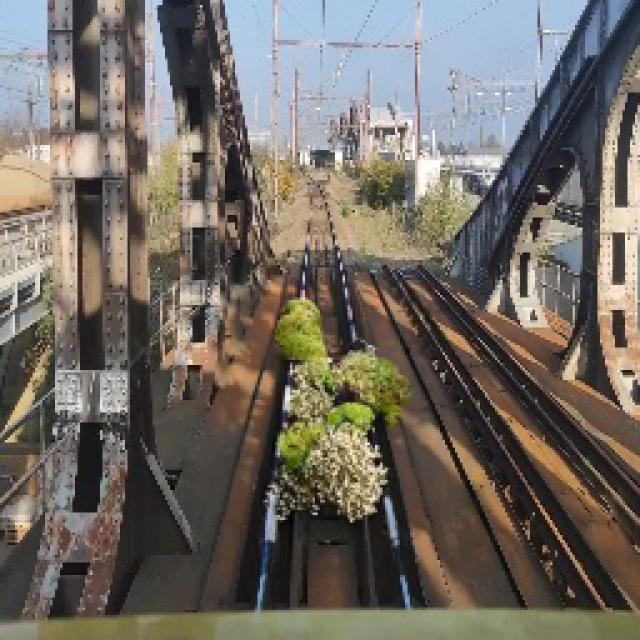danger: (259, 293, 415, 526)
rail: (223, 167, 428, 613)
